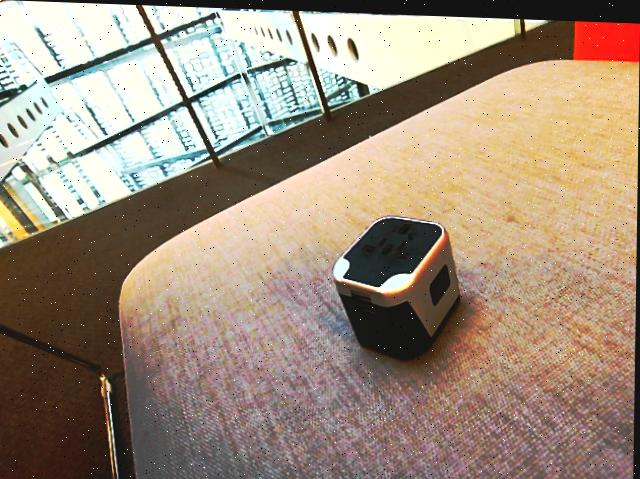adapter: (331, 210, 462, 359)
